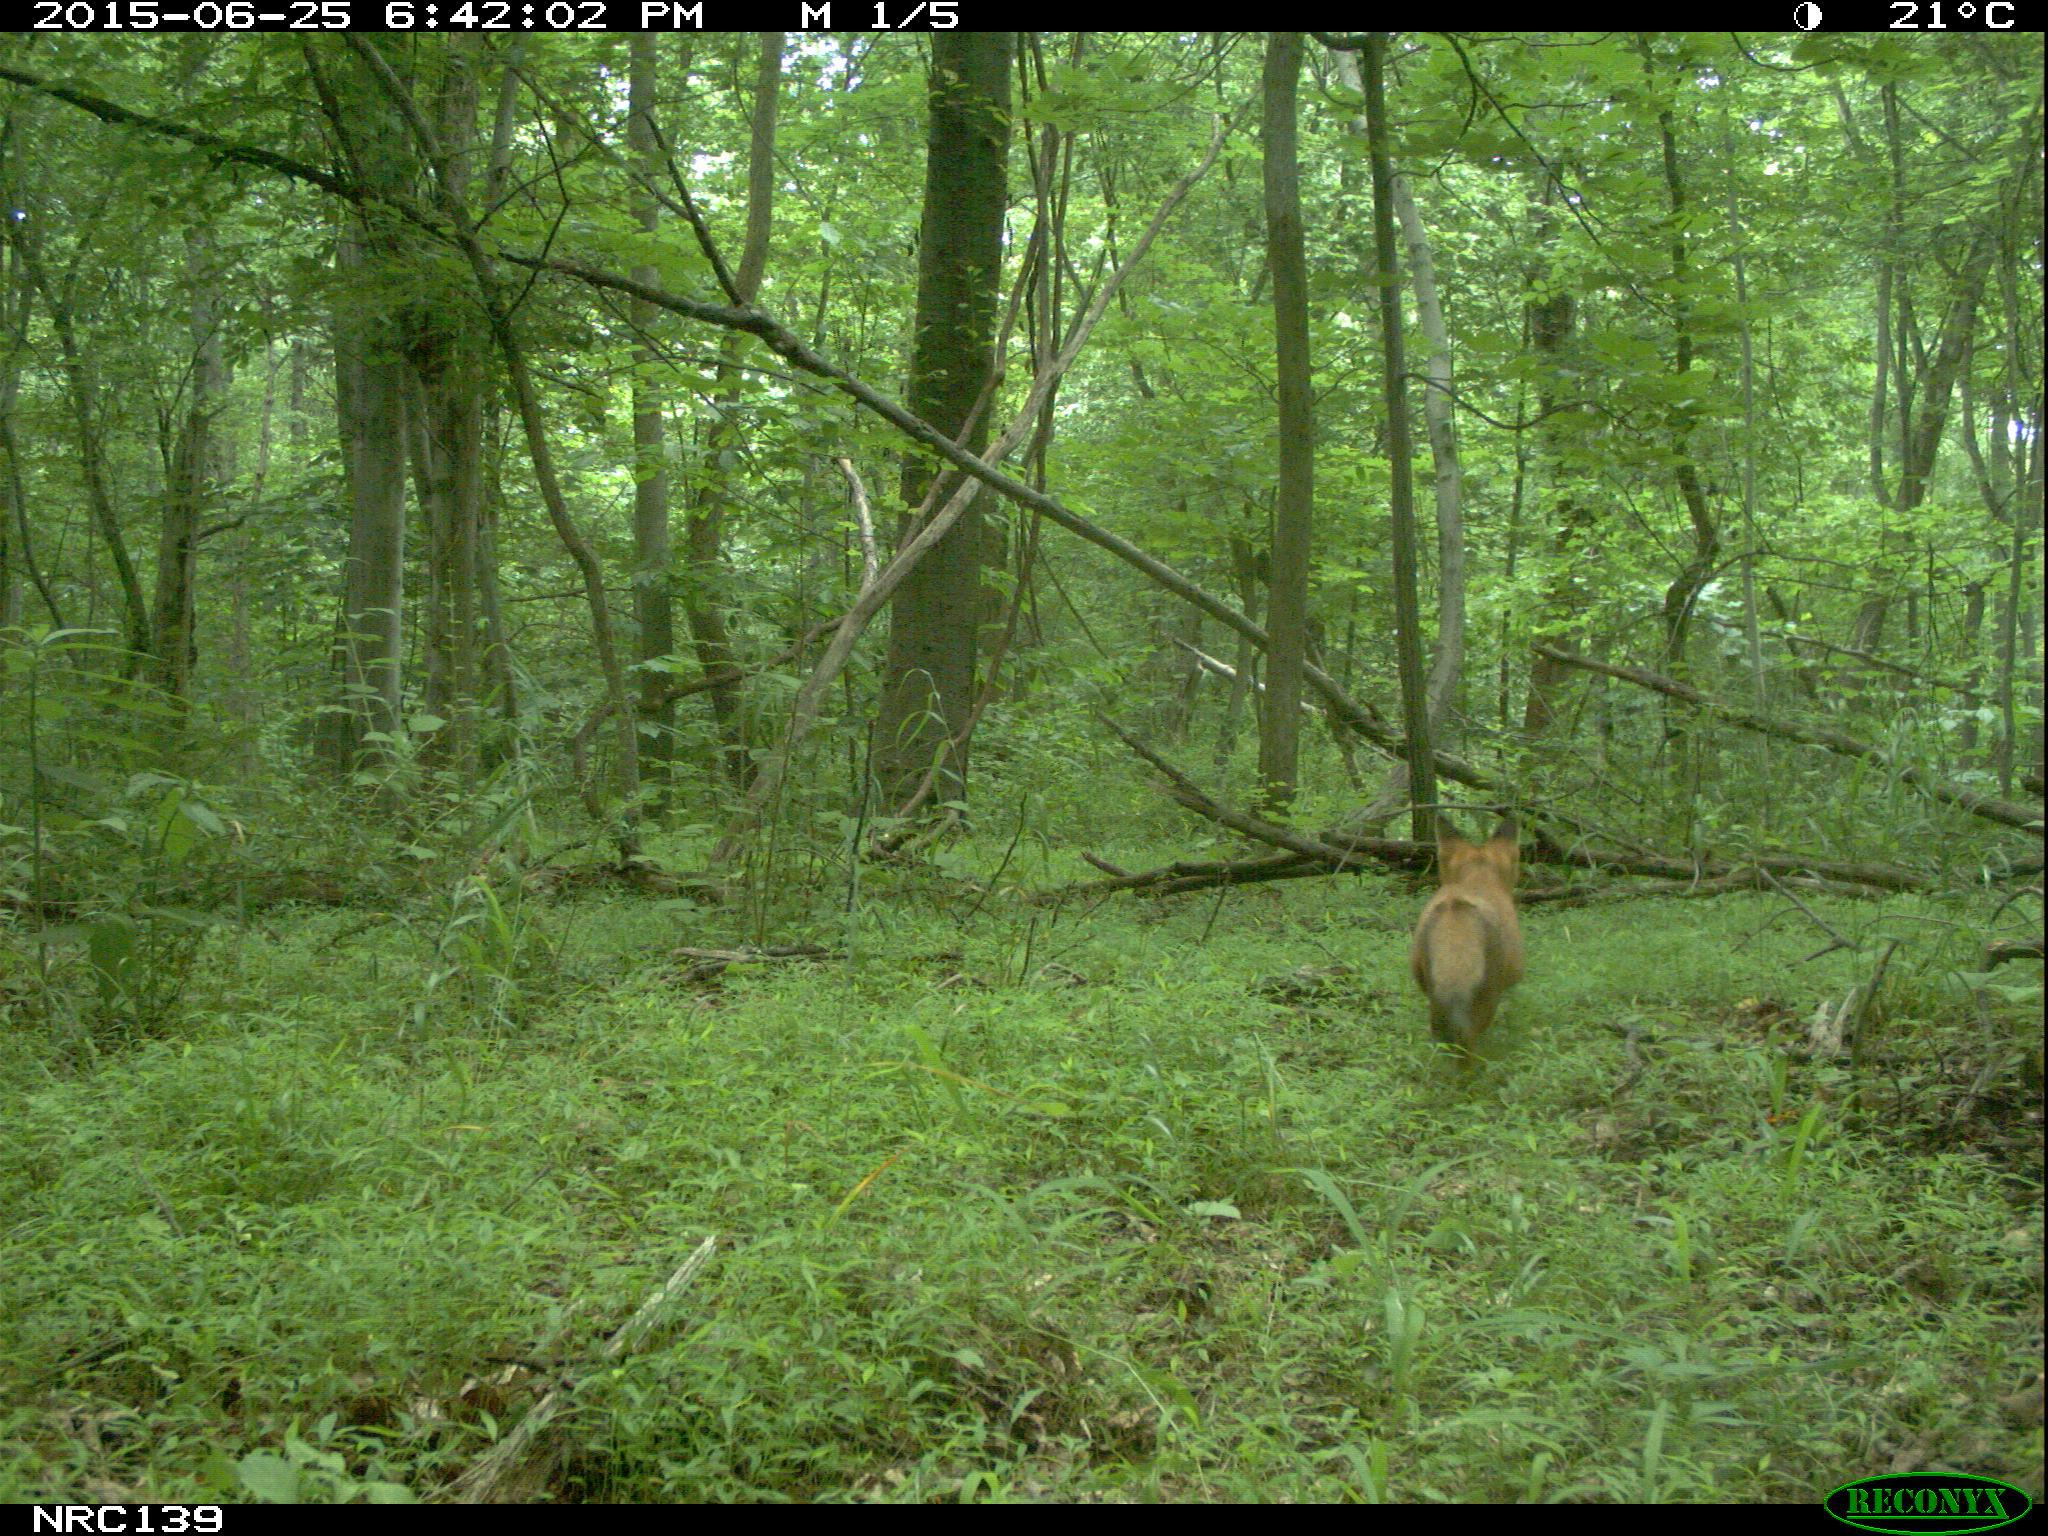Animal: (1413, 808, 1524, 1052)
